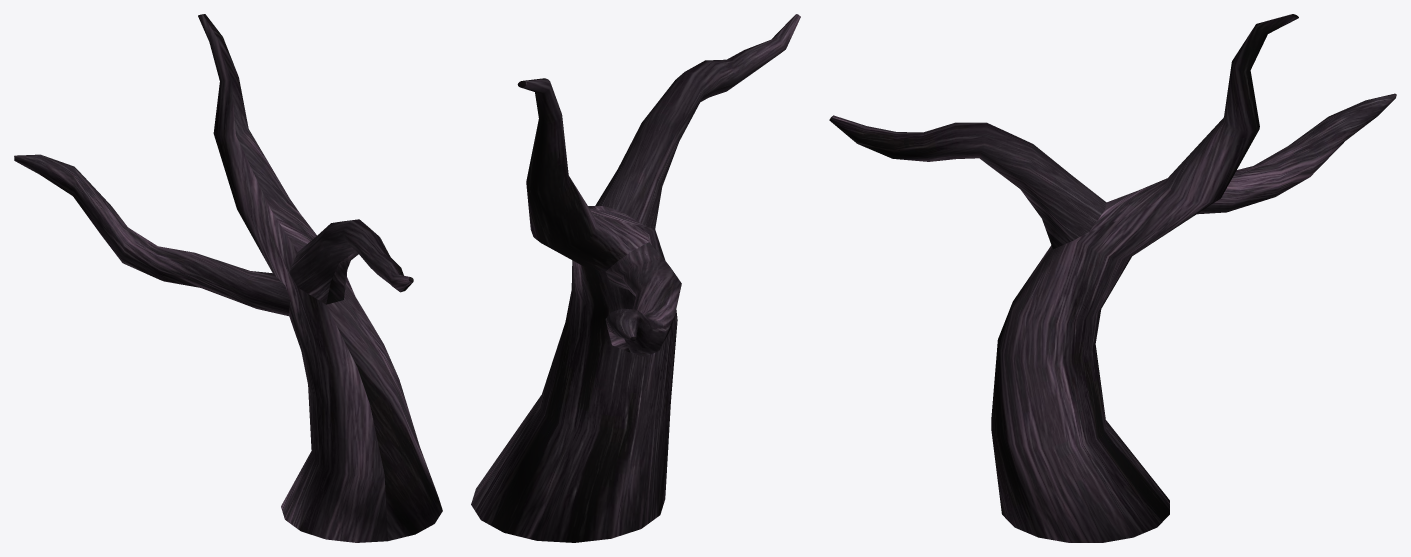
Rendered from SM_Tree_Wide.fbx.
The picture shows the model from 3 angles, left to right: view 1: azimuth 30°, elevation 25°; view 2: azimuth 150°, elevation 25°; view 3: azimuth 270°, elevation 25°; orthographic projection. The views are drawn at different scales.
Visible parts, largest first — view 1: tree_wide; view 2: tree_wide; view 3: tree_wide.
Boxes of the visible parts, x1=… form: tree_wide: x1=14, y1=14, x2=442, y2=542; tree_wide: x1=471, y1=14, x2=800, y2=542; tree_wide: x1=829, y1=14, x2=1396, y2=542.
Bounding box in the file's own units: 169 × 260 × 290.
